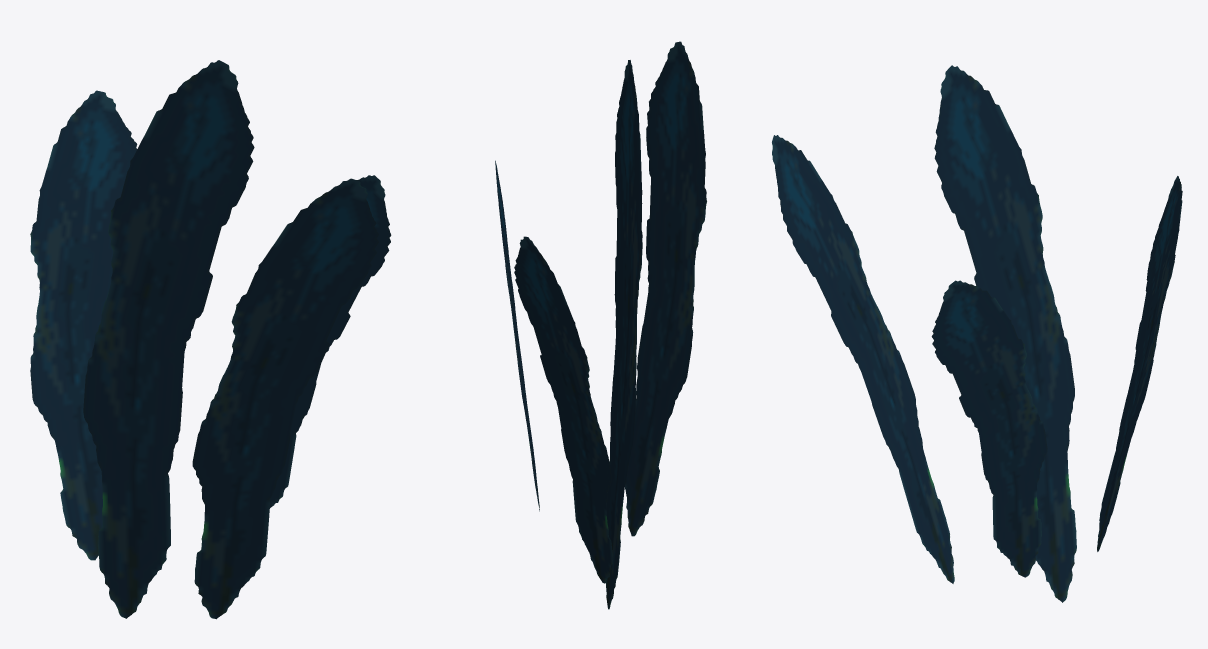
The model's file is cao1_1_dark.fbx.
3 renders of one model, left to right at view 1: azimuth 30°, elevation 25°; view 2: azimuth 150°, elevation 25°; view 3: azimuth 270°, elevation 25°, orthographic. The views are drawn at different scales.
Parts seen in each view (by area): view 1: cao1_1_cark; view 2: cao1_1_cark; view 3: cao1_1_cark.
Part boxes in pixels (x1=…): cao1_1_cark: x1=30, y1=60, x2=391, y2=619; cao1_1_cark: x1=495, y1=41, x2=706, y2=609; cao1_1_cark: x1=772, y1=65, x2=1182, y2=602.
Size of the model in its own units: 274 by 597 by 408.
1 material, 1 textured.
